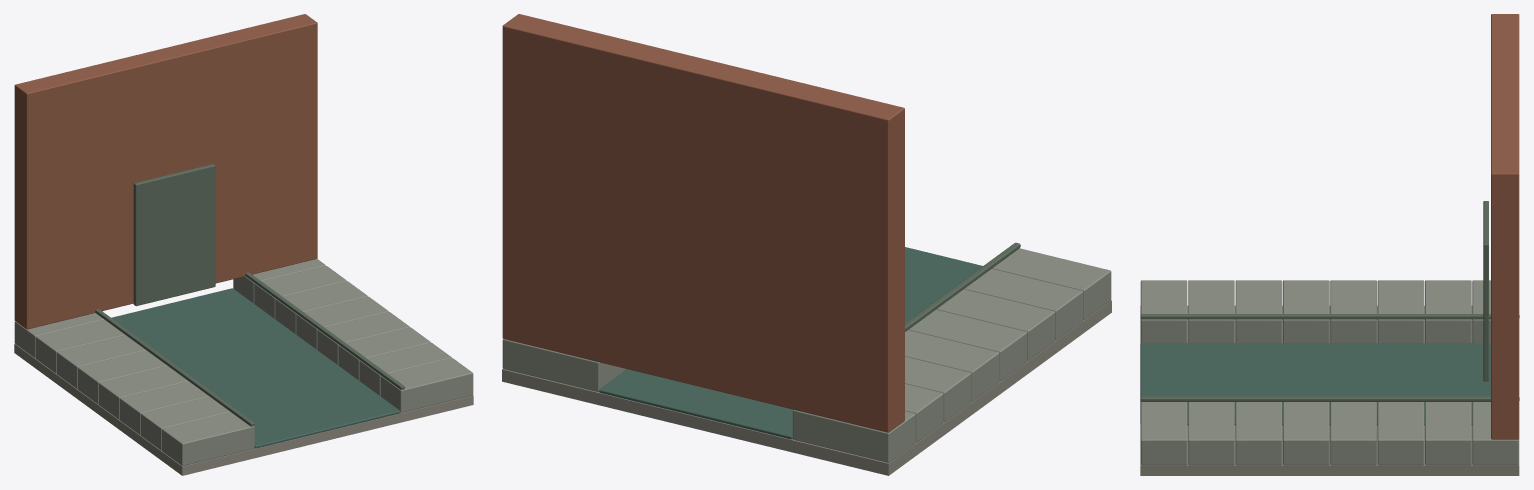
The model's file is undercity-sewers-and-thieves-den-tunnel-end-wall-da0d6de8__25006.glb.
The picture shows the model from 3 angles, left to right: view 1: azimuth 30°, elevation 25°; view 2: azimuth 150°, elevation 25°; view 3: azimuth 270°, elevation 25°; orthographic projection. The views are drawn at different scales.
Parts seen in each view (by area): view 1: tunnel-end-wall; view 2: tunnel-end-wall; view 3: tunnel-end-wall.
Boxes of the visible parts, x1=… form: tunnel-end-wall: x1=14, y1=14, x2=473, y2=475; tunnel-end-wall: x1=502, y1=14, x2=1111, y2=475; tunnel-end-wall: x1=1140, y1=14, x2=1519, y2=475.
Size of the model in its own units: 4 by 3.52 by 4.
